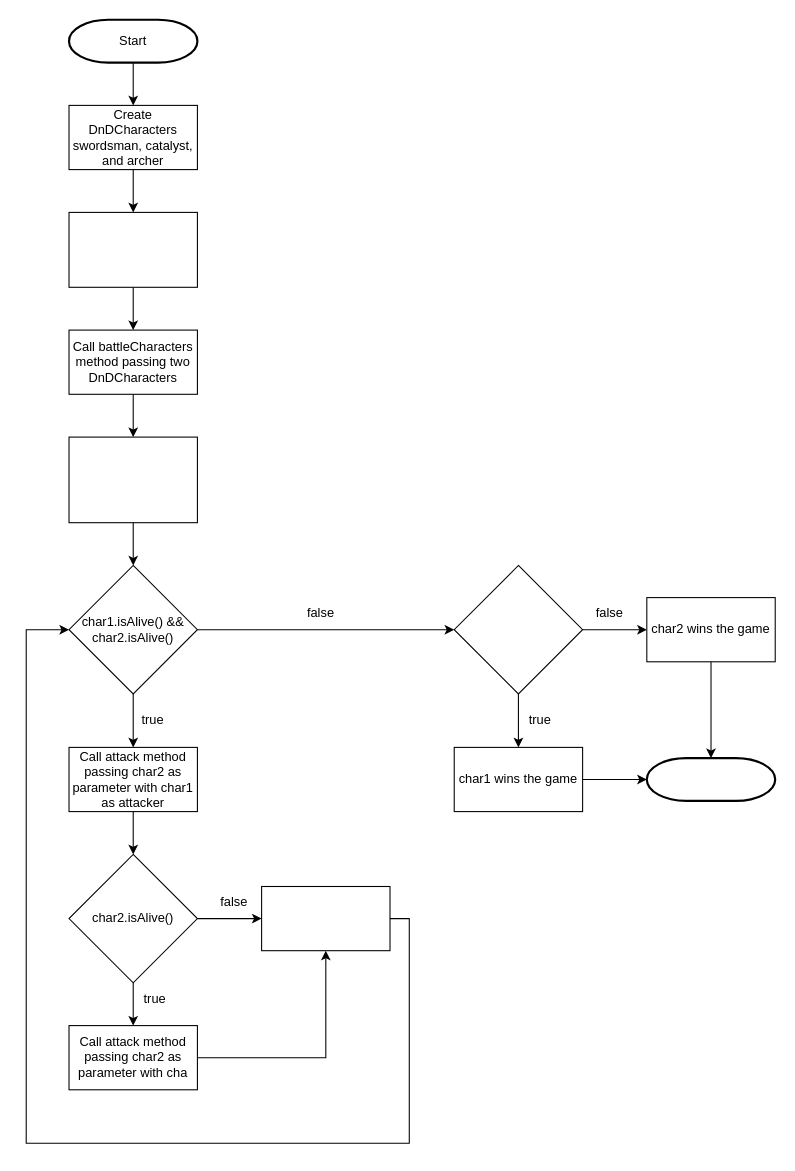
Some shapes in this 795 by 1171 pixel diagram are drawn without their labels. The shapes that lost their labels are listed below. From the top down, each one's box as (x1, y1, x2, y2) in pixels, then its label:
(68, 211, 197, 287): Print characterName, health, and damage of each DnDCharacter created
(68, 436, 197, 523): Print characterName and health of DnDCharacters passed (char1 and char2)
(453, 564, 583, 694): char1.isAlive()
(645, 756, 776, 801): End
(261, 885, 390, 951): print char1 and char2's name and health
